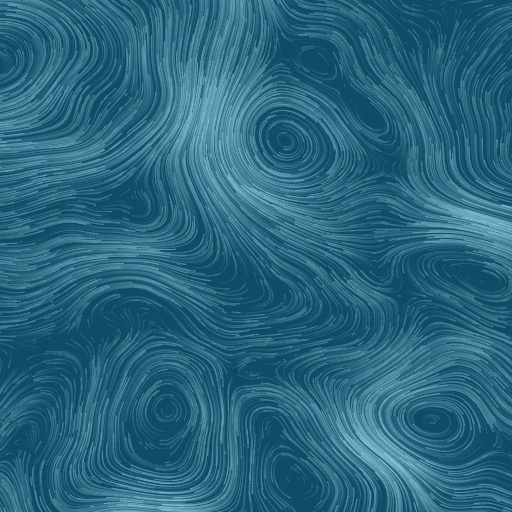eddy: (242, 94, 343, 184), (383, 384, 485, 459), (259, 442, 335, 510), (137, 379, 199, 445), (439, 255, 511, 301), (351, 93, 392, 137), (297, 42, 339, 80)
